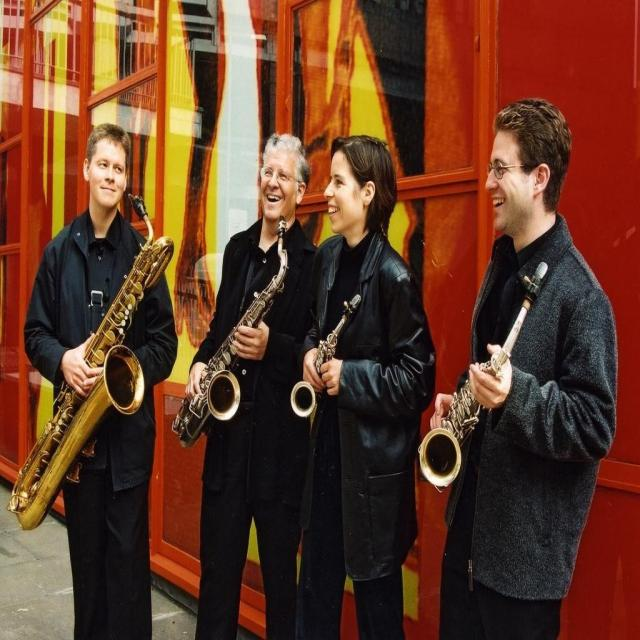saxophone: (7, 188, 174, 534), (415, 263, 549, 491), (170, 211, 295, 451), (290, 288, 368, 420)
